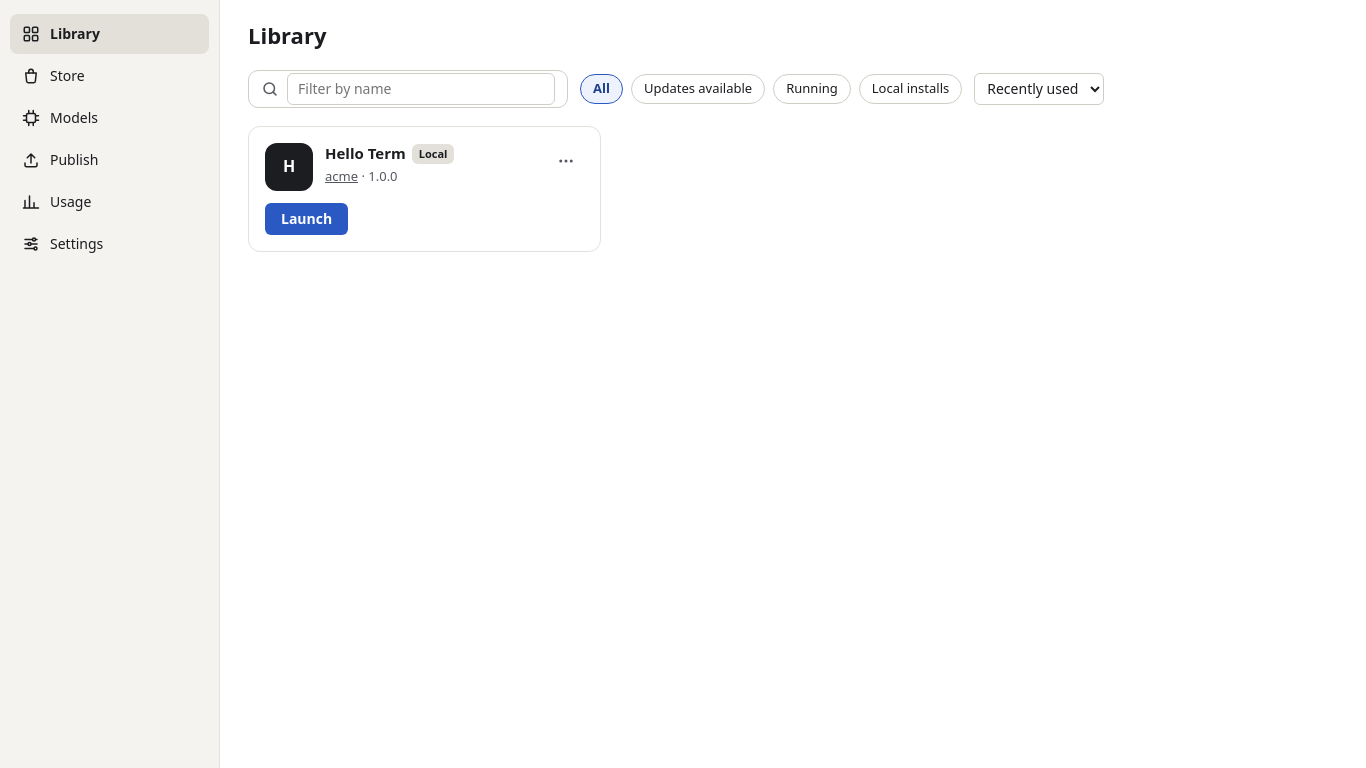
Test: the card menu › shows on the card why main could not open the folder
This screenshot has width=1366, height=768.
What coordinates should you click on to do the following:
click the button named "More actions for Hello Term"
I would click on:
 (566, 161)
Its box is [548,143,584,179].
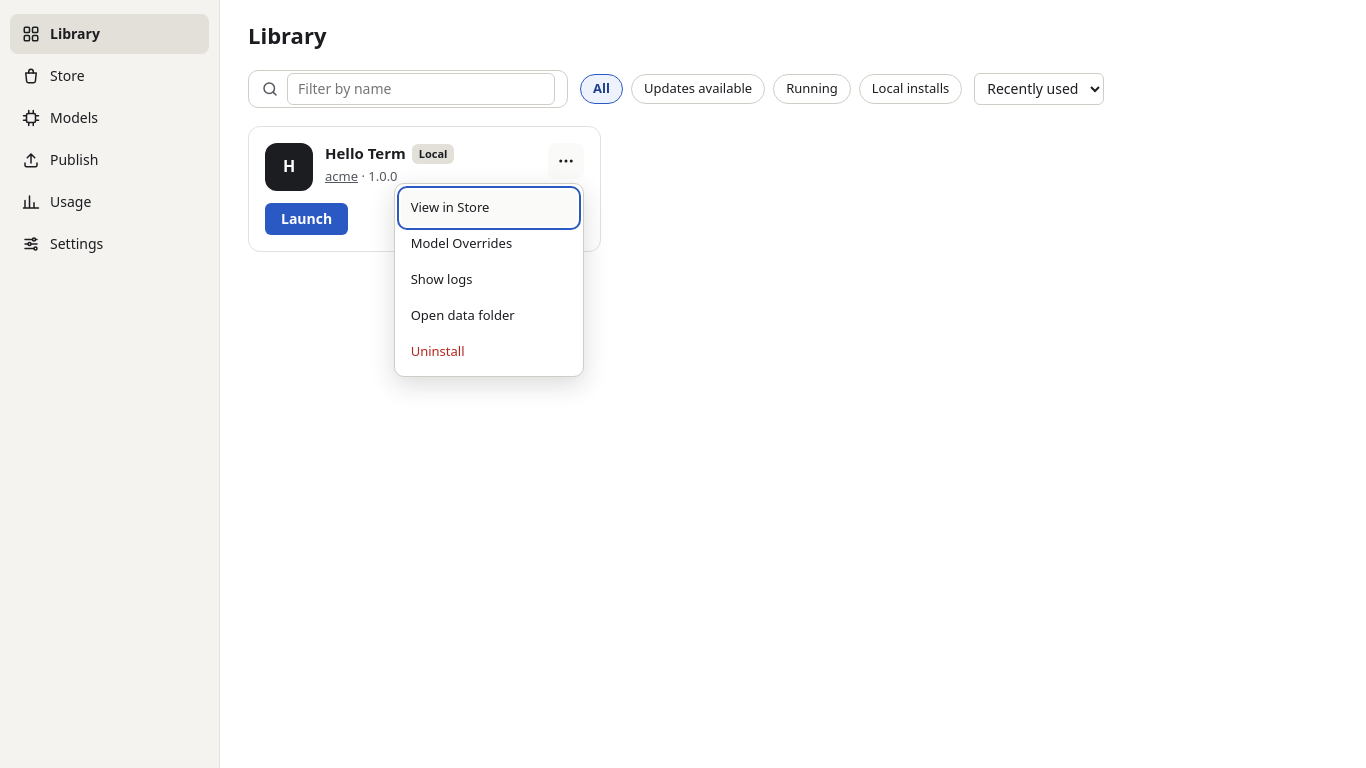
What coordinates should you click on to do the following:
click the menu item "Open data folder"
I would click on:
 (489, 316)
Its box is [401,298,577,334].
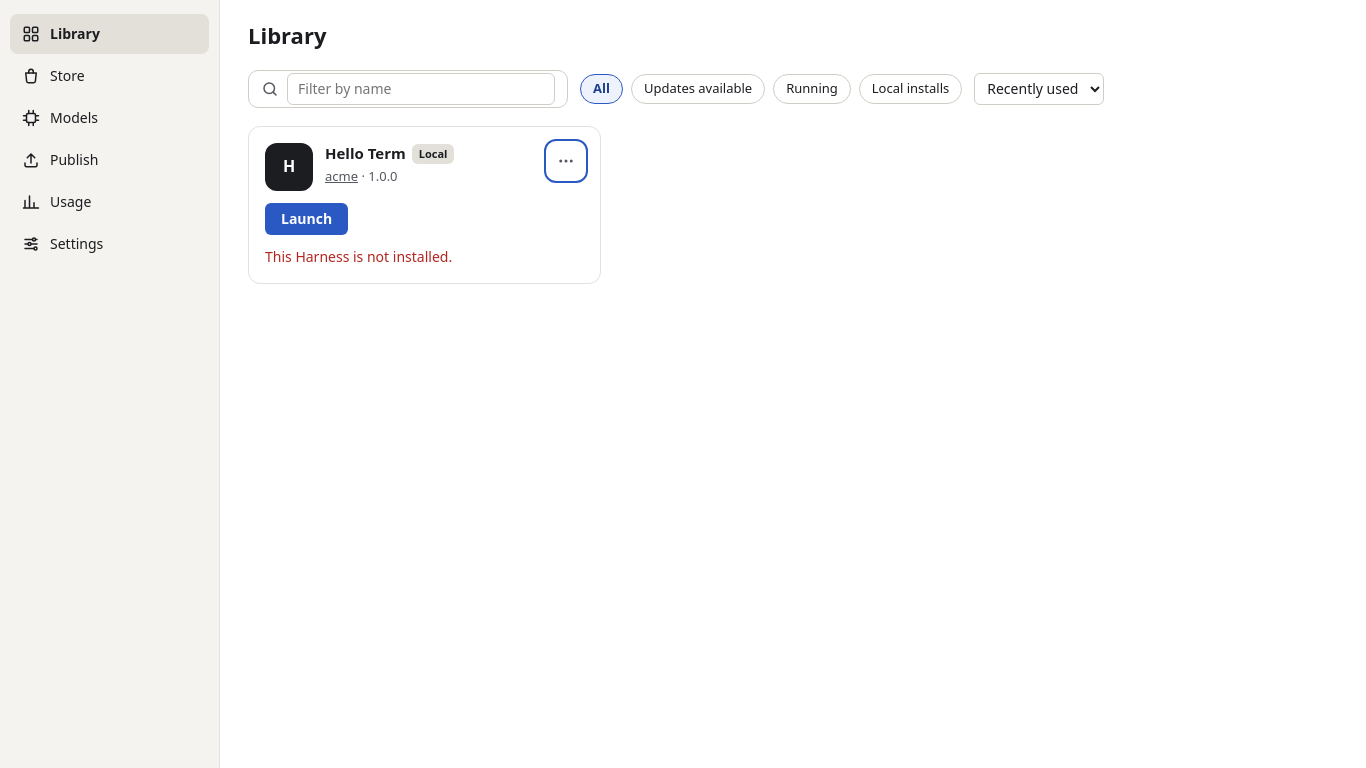
expect the message reads "This Harness is not installed.": met, box [265,247,452,266]
